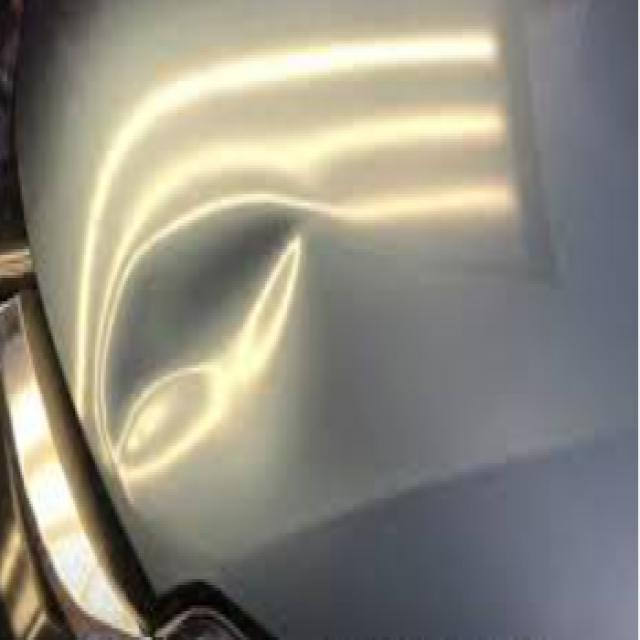dents: (68, 208, 313, 475)
